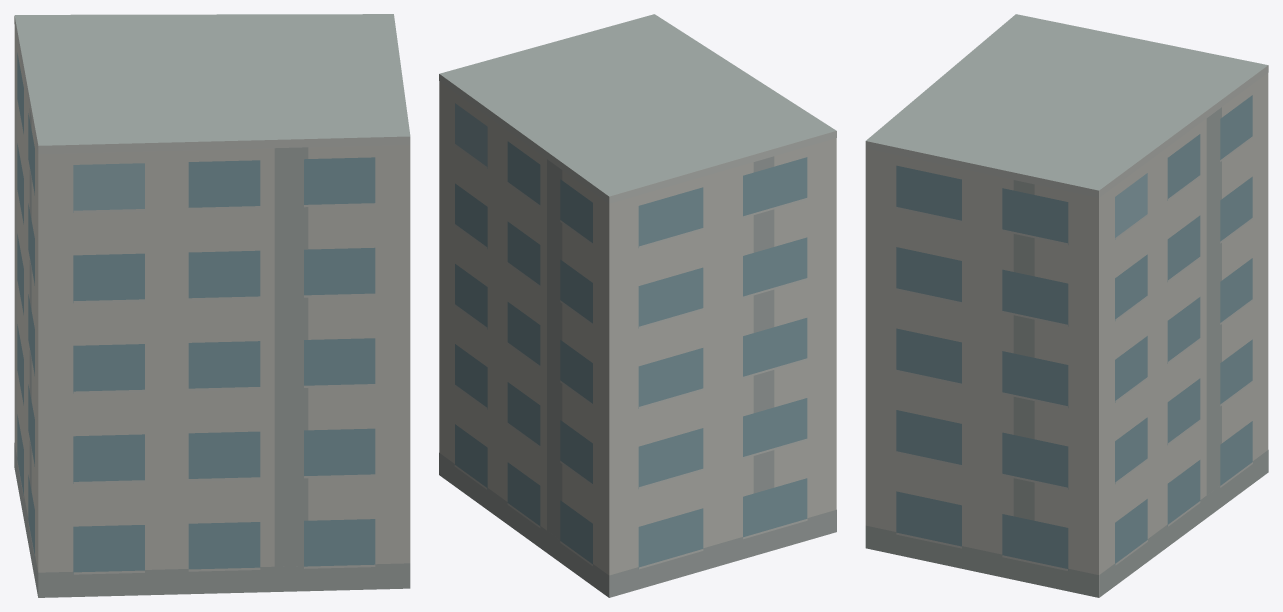
The model's file is survey-upis-32910353.glb.
3 renders of one model, left to right at view 1: azimuth 30°, elevation 25°; view 2: azimuth 150°, elevation 25°; view 3: azimuth 270°, elevation 25°, orthographic. The views are drawn at different scales.
Parts seen in each view (by area): view 1: survey-upis-32910353.tmp; view 2: survey-upis-32910353.tmp; view 3: survey-upis-32910353.tmp.
Part boxes in pixels (<box>): survey-upis-32910353.tmp: <box>14,14,410,597</box>; survey-upis-32910353.tmp: <box>439,14,836,597</box>; survey-upis-32910353.tmp: <box>865,14,1268,597</box>.
Bounding box in the file's own units: 12.33 × 13.25 × 11.89.
